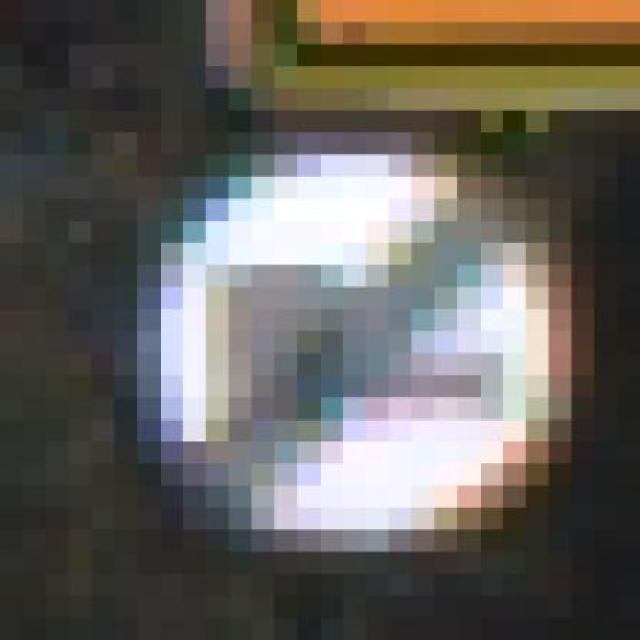Overtaking by trucks is prohibited: (92, 132, 618, 574)
